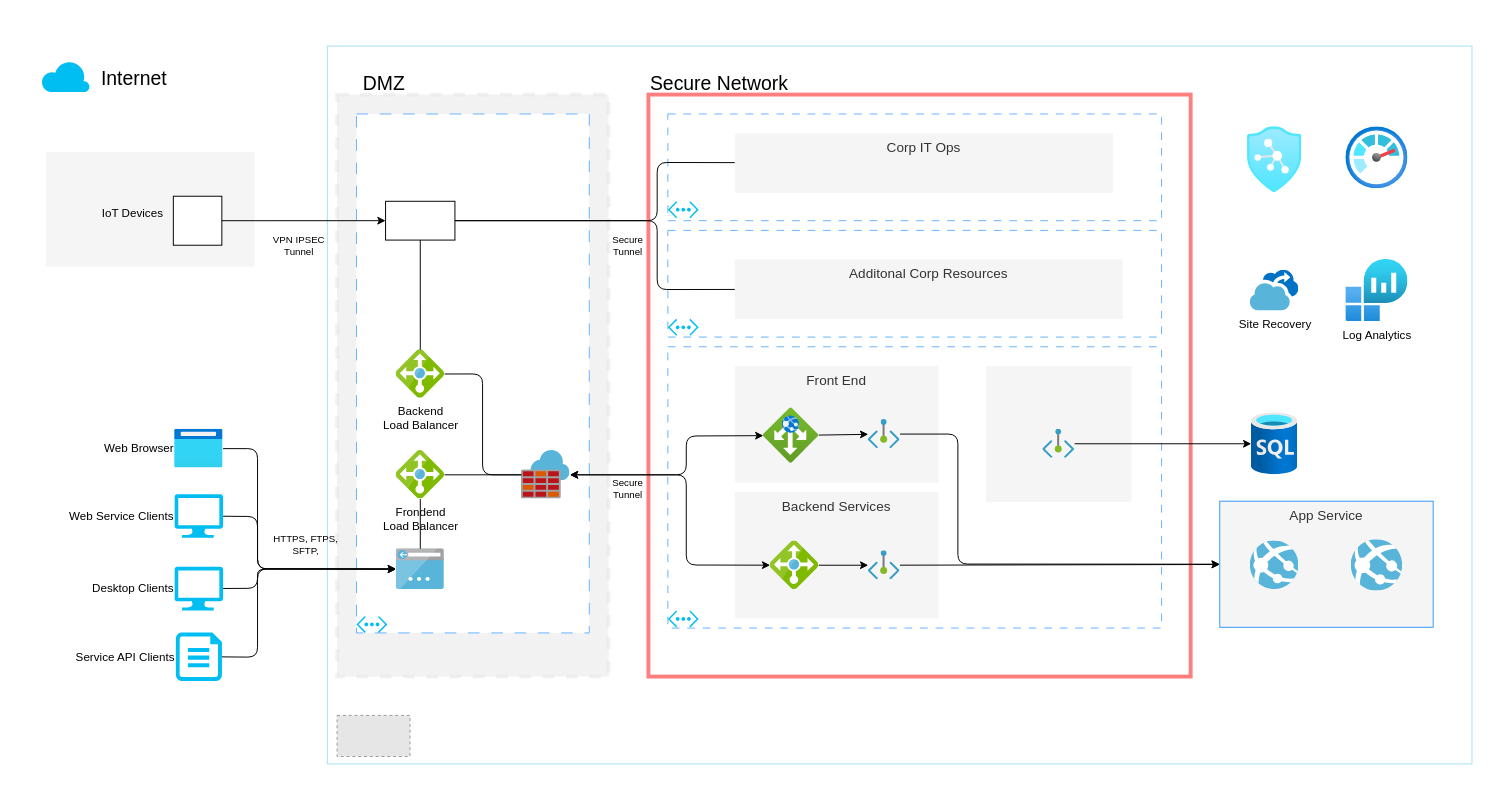
The diagram is 1507 pixels wide and 790 high, and some of its shapes have lost their labels. Grey dashed boxes stand in for pictures. Here are the shapes that lost their labels. From the top down, the box of each, then its label:
(1247, 126, 1301, 192): Azure Defender
(1345, 126, 1407, 188): Azure Monitor
(46, 152, 254, 266): Customer Network
(385, 200, 455, 240): VPN Gateway
(986, 366, 1131, 501): Database
(521, 450, 569, 499): Managed Firewall
(396, 548, 444, 589): Public IP
